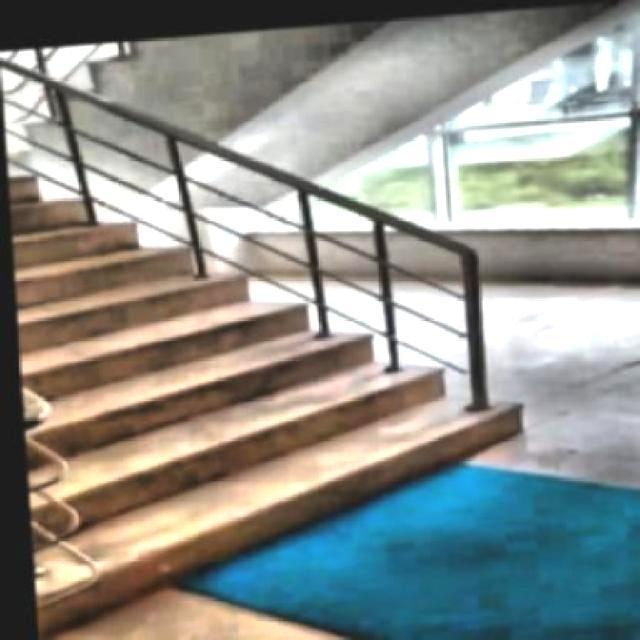stair: (4, 61, 558, 624)
